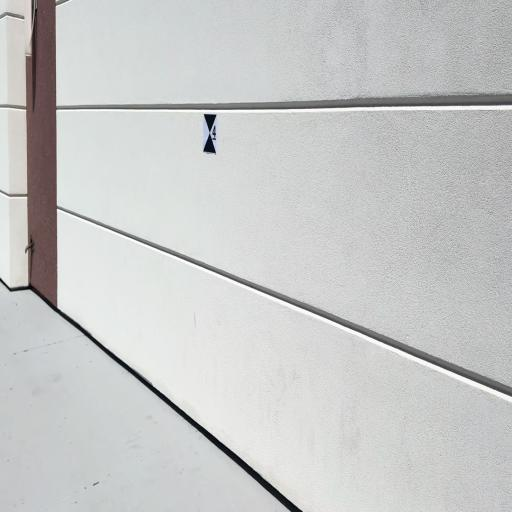target4: (203, 113, 217, 155)
